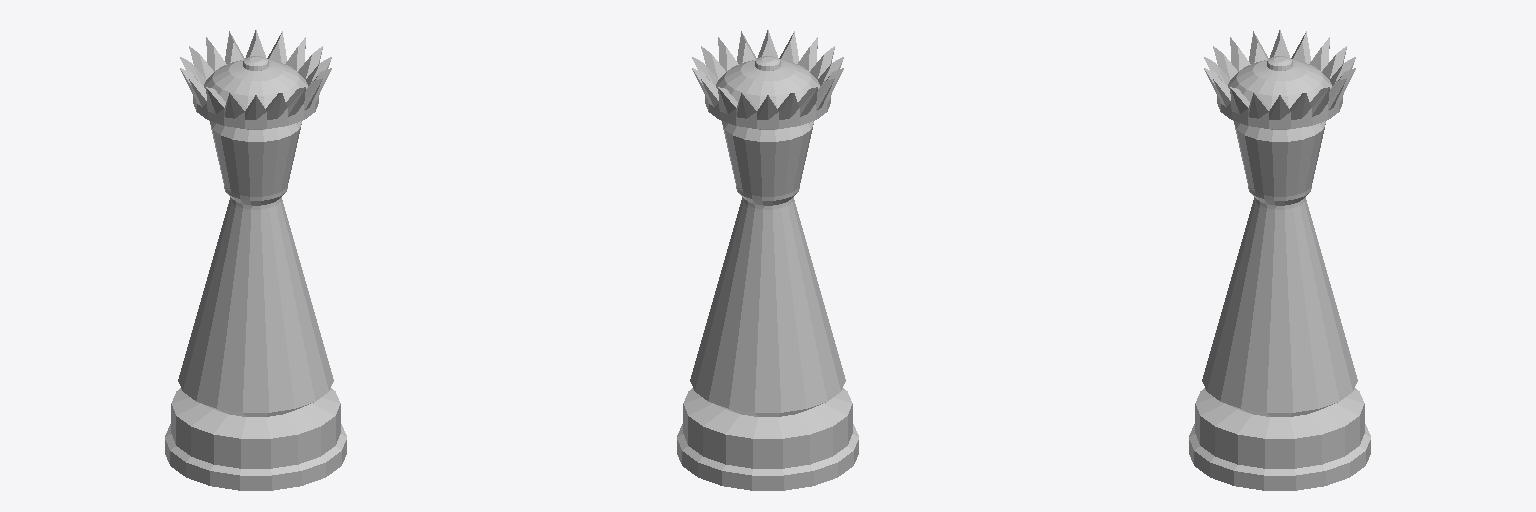
File: queen.obj
3 views of the same model, side by side, from view 1: azimuth 30°, elevation 25°; view 2: azimuth 150°, elevation 25°; view 3: azimuth 270°, elevation 25° (orthographic).
Parts seen in each view (by area): view 1: Circle.001; view 2: Circle.001; view 3: Circle.001.
Boxes of the visible parts, x1,y1,x2,y2 form: Circle.001: [165, 30, 346, 490]; Circle.001: [677, 30, 858, 490]; Circle.001: [1189, 30, 1370, 490].
Size of the model in its own units: 1.58 by 3.81 by 1.6.